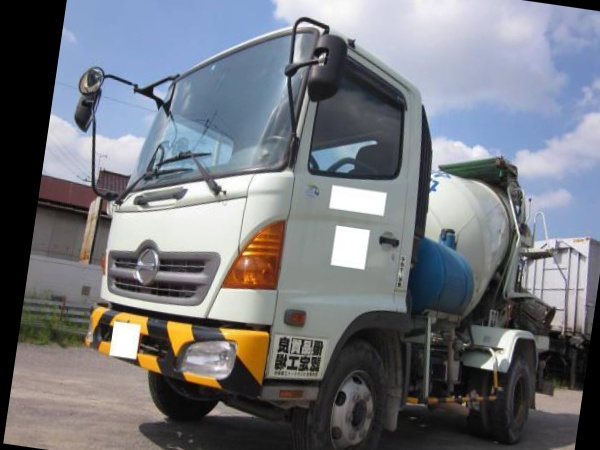truck: (25, 0, 581, 450)
